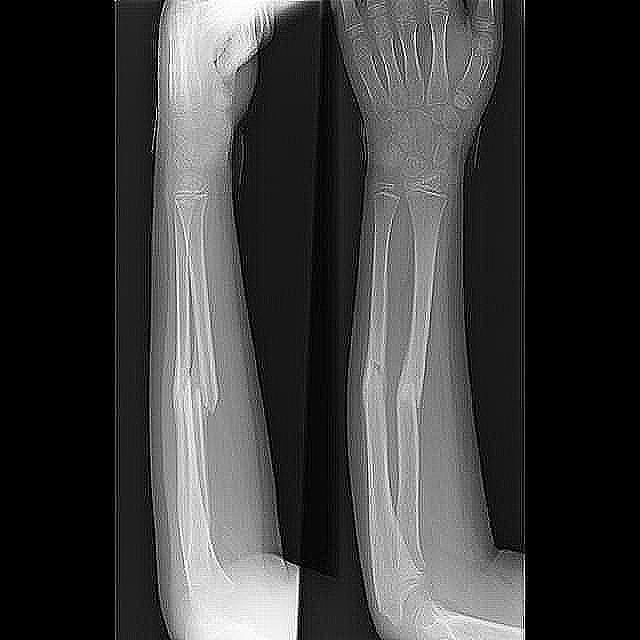bone: (392, 366, 426, 432), (357, 352, 392, 412), (194, 376, 222, 432), (166, 358, 192, 414)
